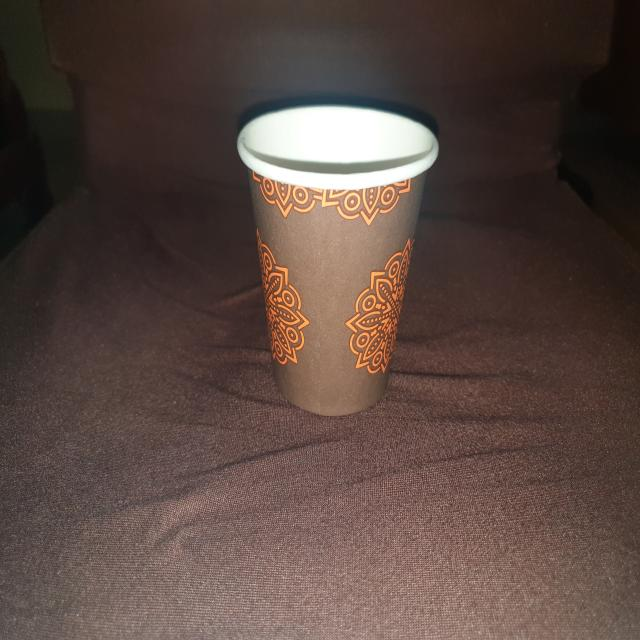cup: (233, 104, 437, 421)
